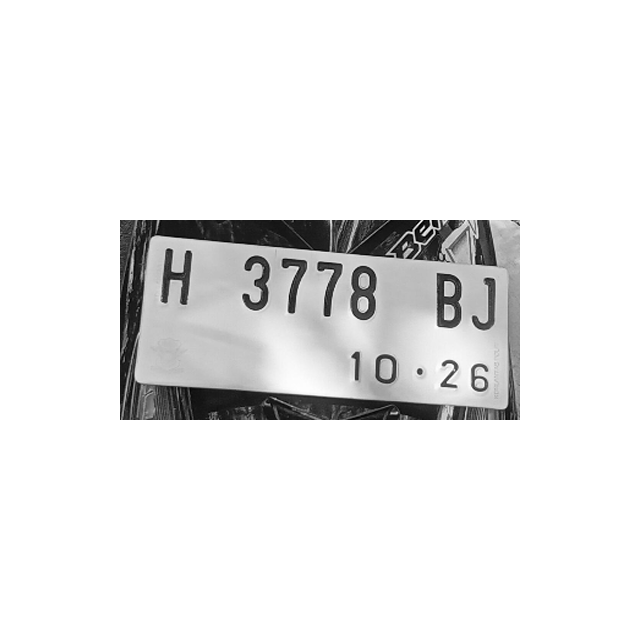contain: (159, 242, 195, 309), (241, 248, 274, 316), (279, 252, 310, 322), (314, 256, 346, 323), (349, 260, 381, 323), (469, 269, 500, 331), (433, 267, 462, 330)
